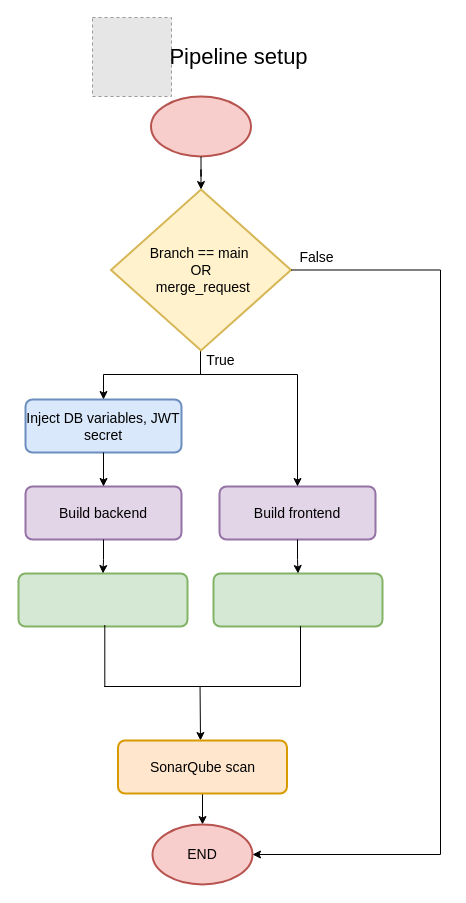
This 466x903 diagram has some shape labels left out. Grey dashed boxes stand in for pictures. The shapes that lost their labels are listed below. From the top down, each one's centre as x and y in pixels, then its label:
pixel 201 126: START
pixel 102 599: Test backend
pixel 297 599: Test frontend
